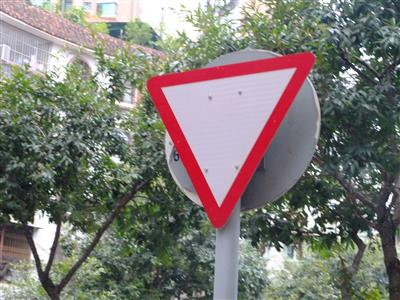yield: (138, 49, 317, 235)
